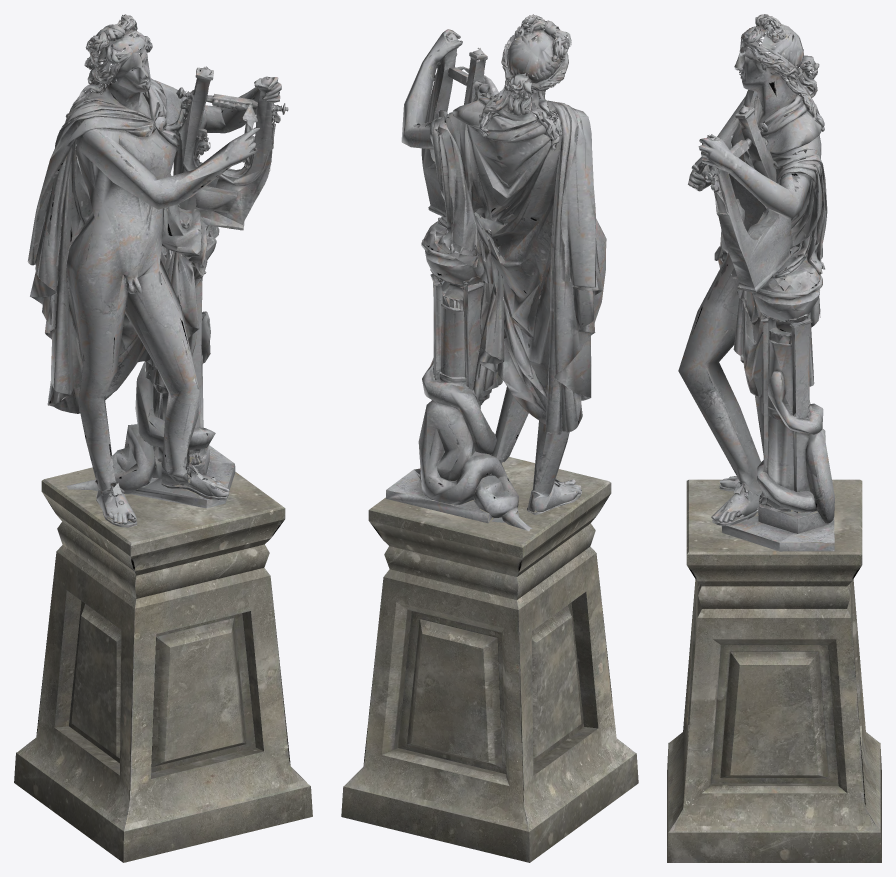
Rendered from apoll_sculpture.glb.
3 views of the same model, side by side, from view 1: azimuth 30°, elevation 25°; view 2: azimuth 150°, elevation 25°; view 3: azimuth 270°, elevation 25° (orthographic).
Visible parts, largest first — view 1: Object_7, Object_4; view 2: Object_7, Object_4; view 3: Object_7, Object_4.
Part boxes in pixels (x1,y1,x2,y2): Object_7: [14, 456, 312, 862]; Object_4: [27, 14, 288, 527]; Object_7: [341, 457, 638, 862]; Object_4: [386, 14, 606, 531]; Object_7: [667, 479, 881, 862]; Object_4: [678, 14, 834, 551].
Bounding box in the file's own units: 2.08 × 7.34 × 1.83.
Materials: 2 (2 with a texture image).
